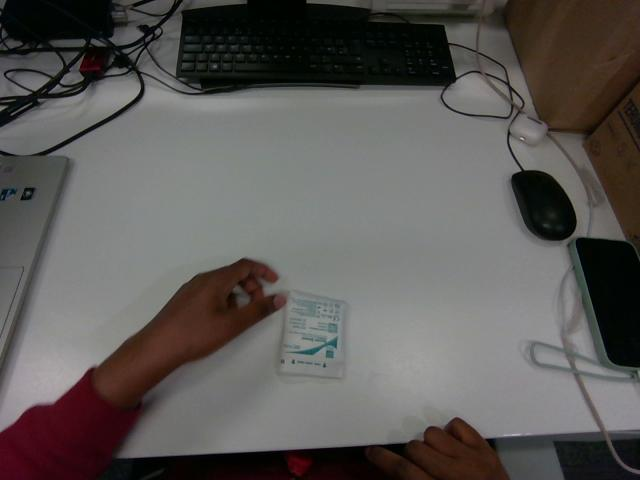gauze: (279, 291, 347, 377)
